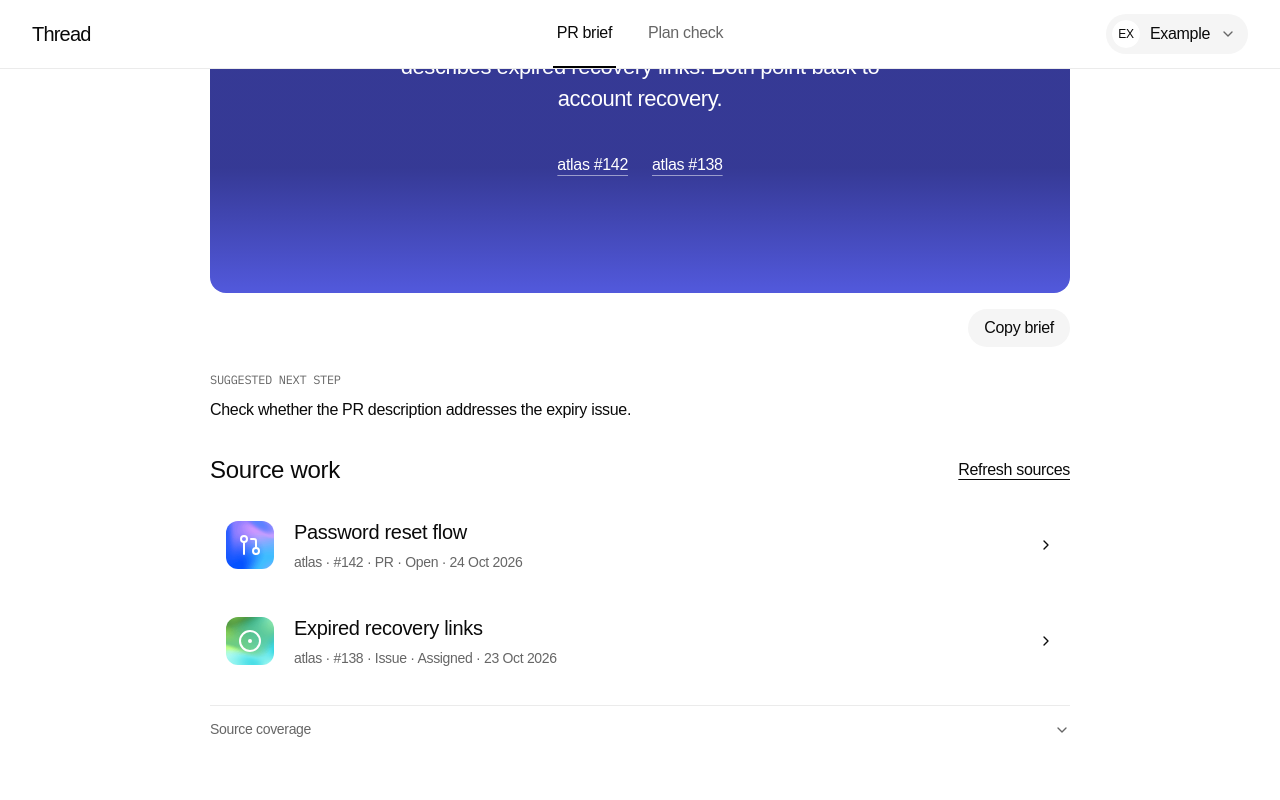
Test: keeps the inspector mounted when switching sources and replaces its content
(page scrolled)
Click the button with aria-label "Inspect Password reset flow". click: (250, 545)
box: left=210, top=501, right=1070, bottom=589
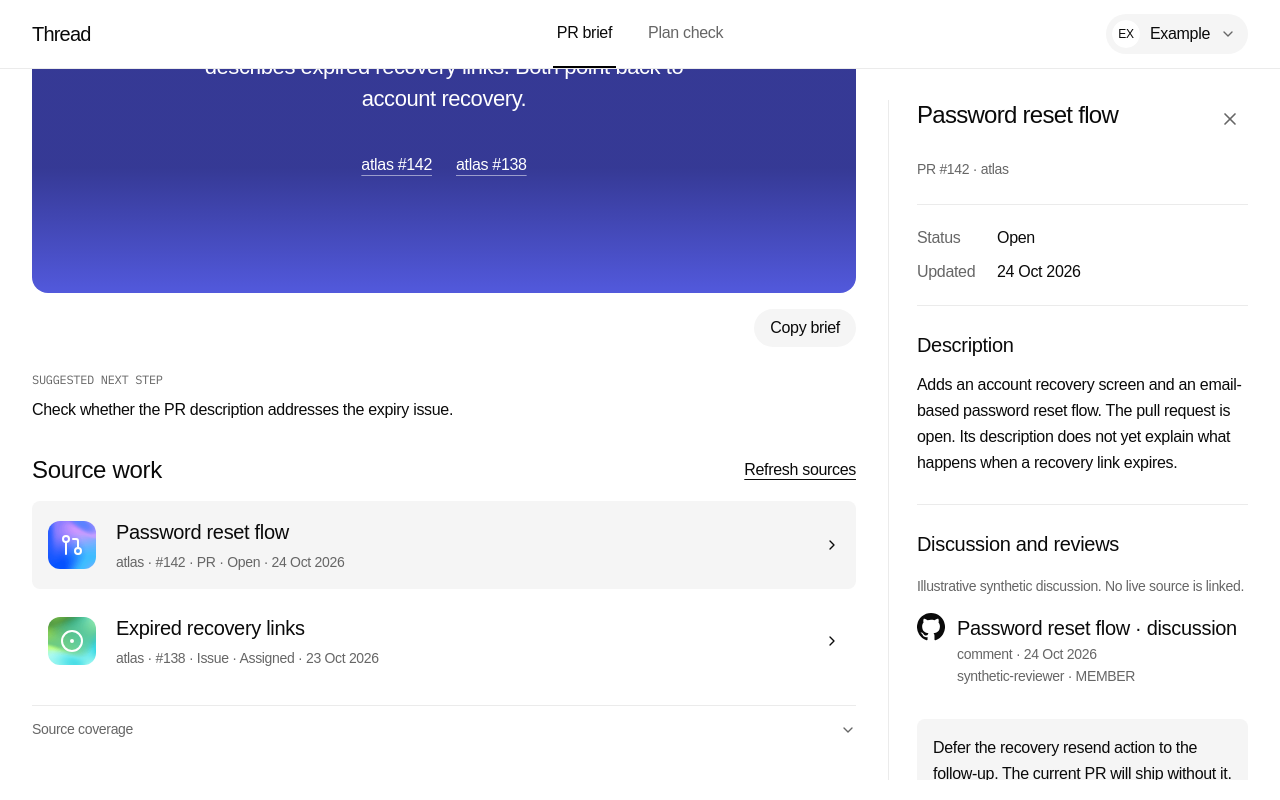
Click the button with aria-label "Inspect Expired recovery links". click: (72, 641)
box: left=32, top=597, right=856, bottom=685
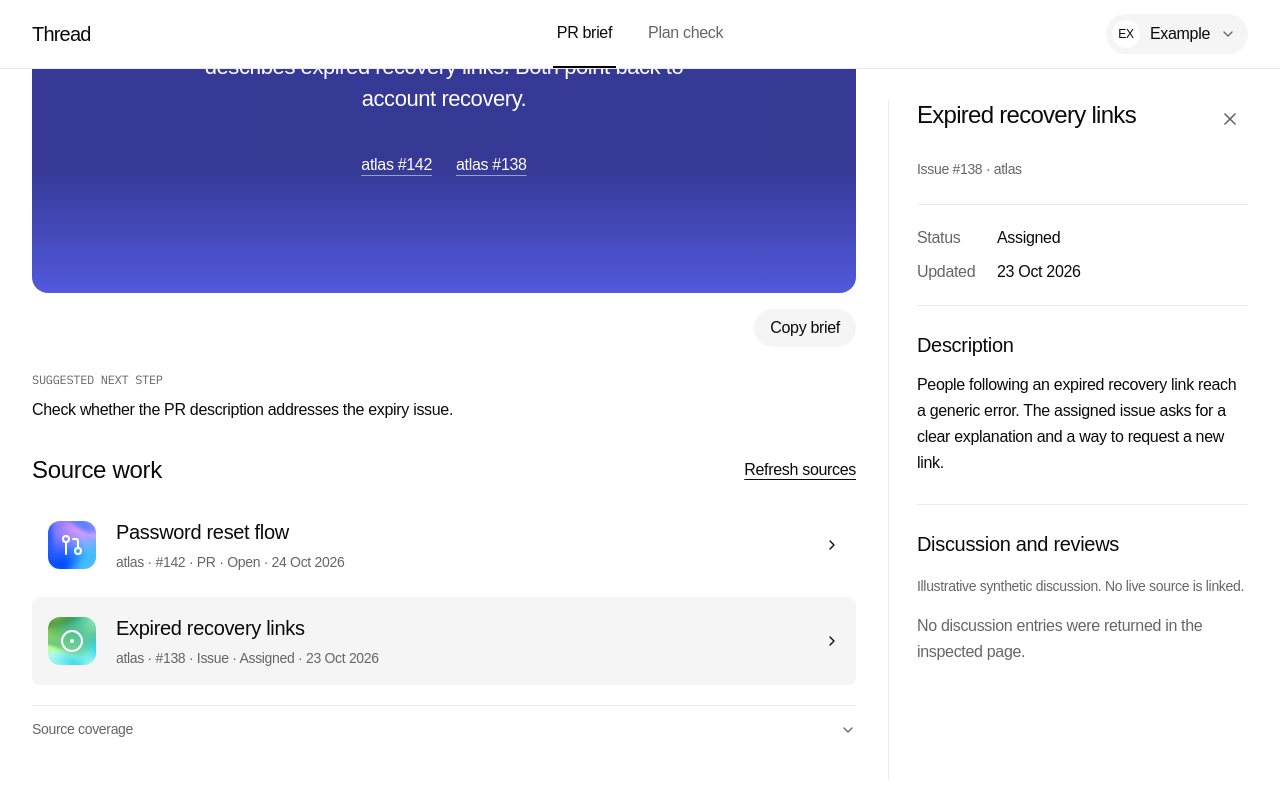
Check: the text "No discussion entries were returned in the inspected page." is shown, box left=917, top=613, right=1248, bottom=665
